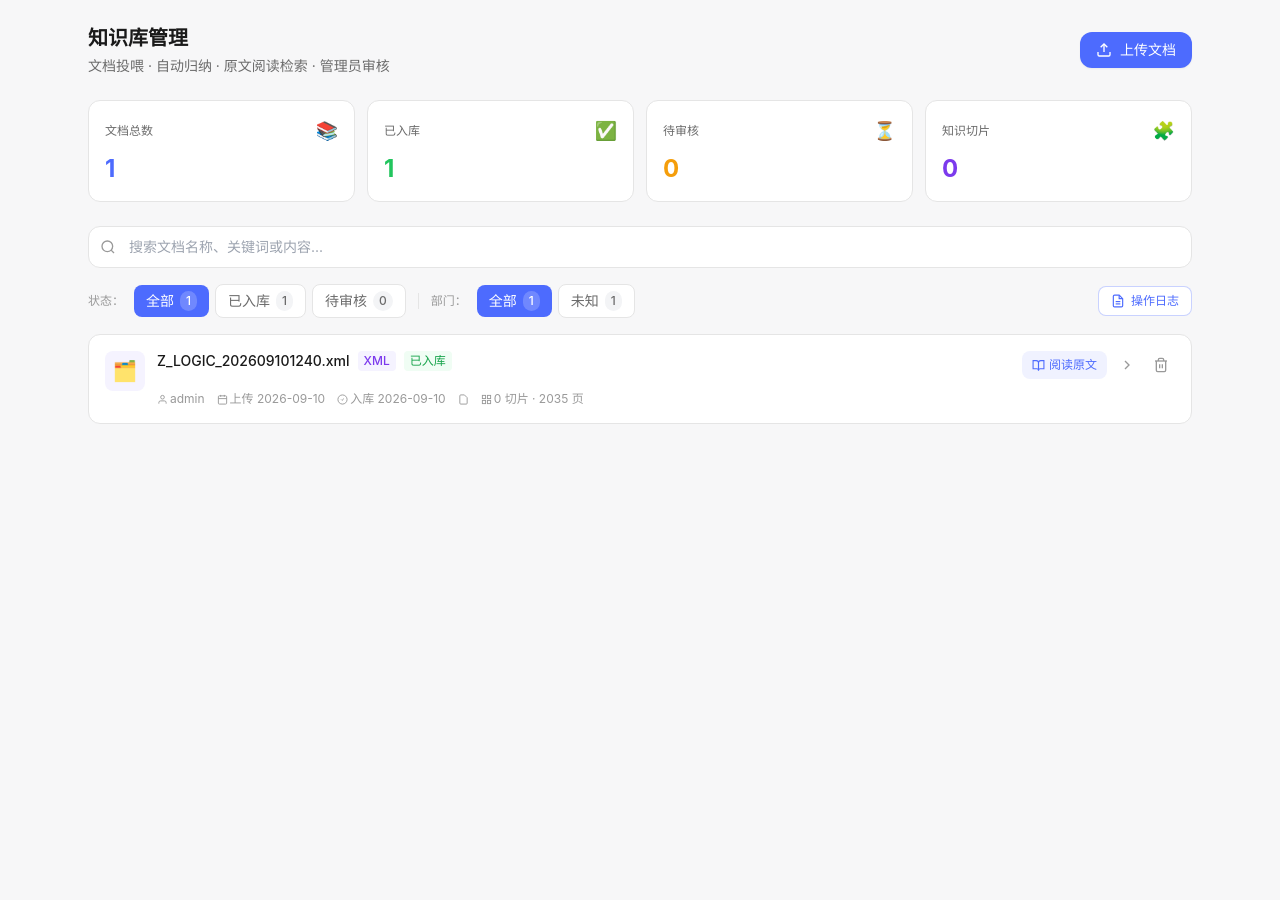
Test: KnowledgeBase › XML 数据导出：点击「总结整个文档」被拦截，不会发起总结任务
Note: 打开详情面板：面板内已有「无需总结」的说明
Click the text "Z_LOGIC_202609101240.xml".
click(253, 361)  # box [157,351,350,371]
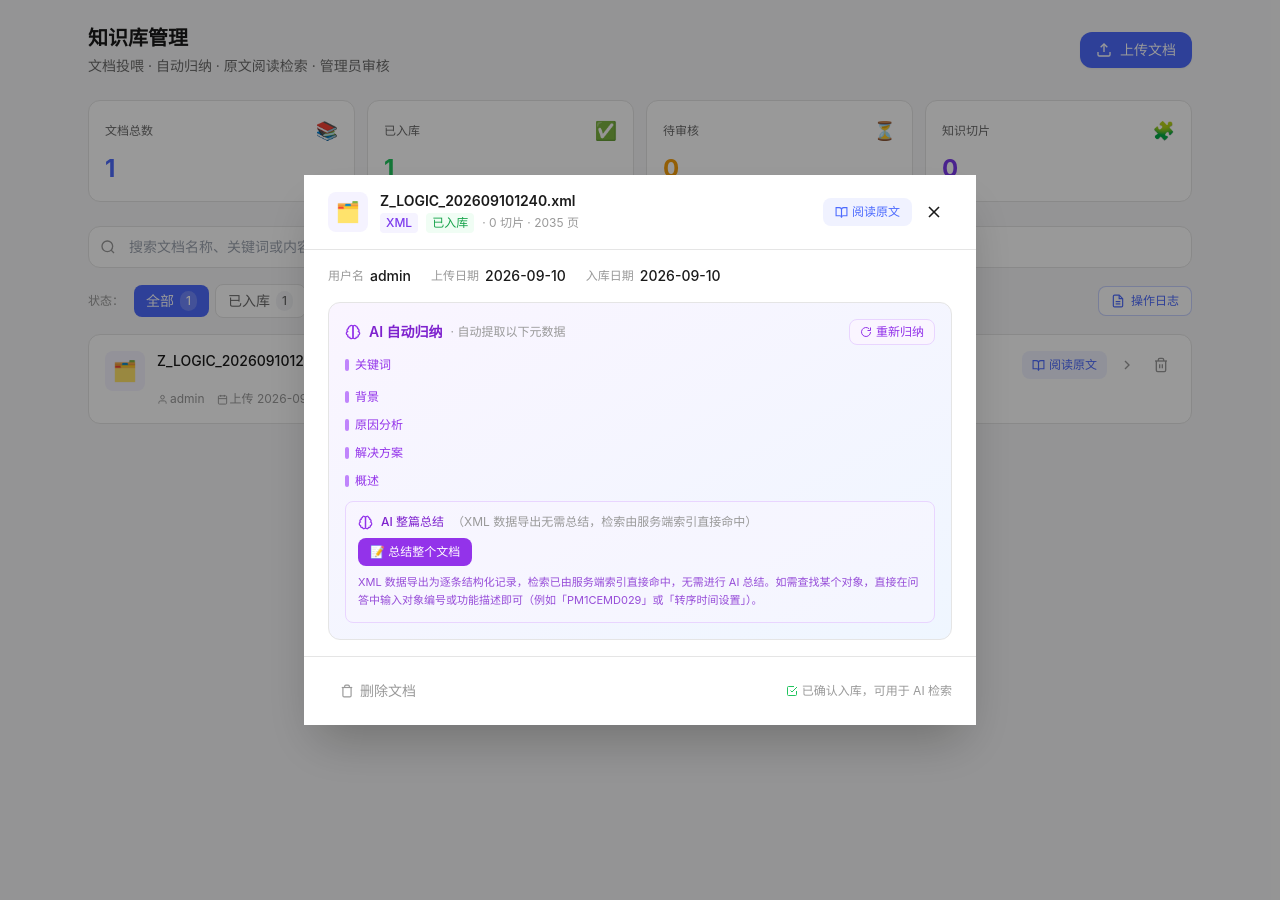
Check: the text "无需进行 AI 总结" is shown once, box [358,574,922,610]
Note: 点击总结按钮 → 校验拦下：弹窗给出拒绝说明，且没有调用 /api/summary/start
Click the button "📝 总结整个文档".
click(415, 552)  # box [358,538,472,566]
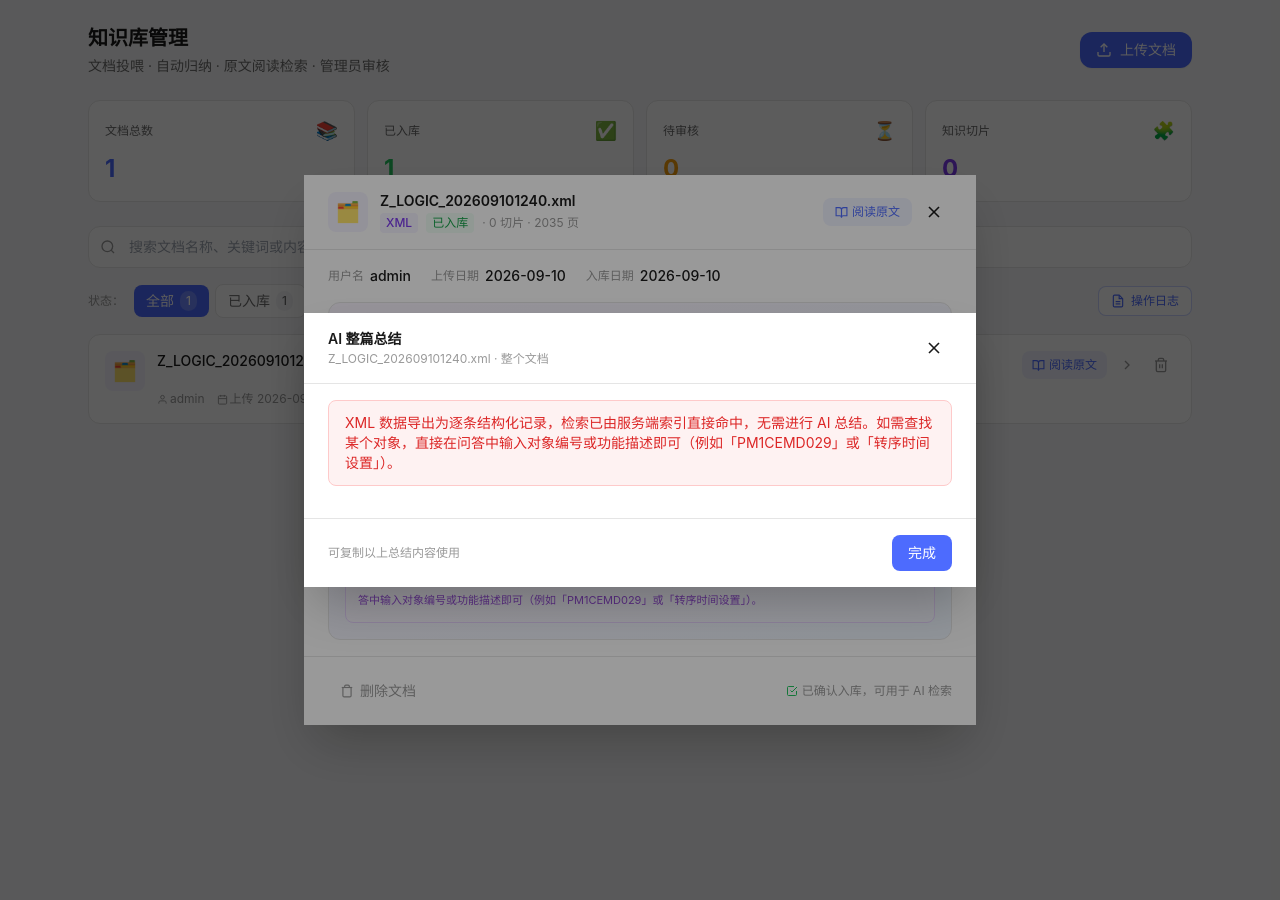
Check: the text "可复制以上总结内容使用" is shown, box [328,545,460,561]
